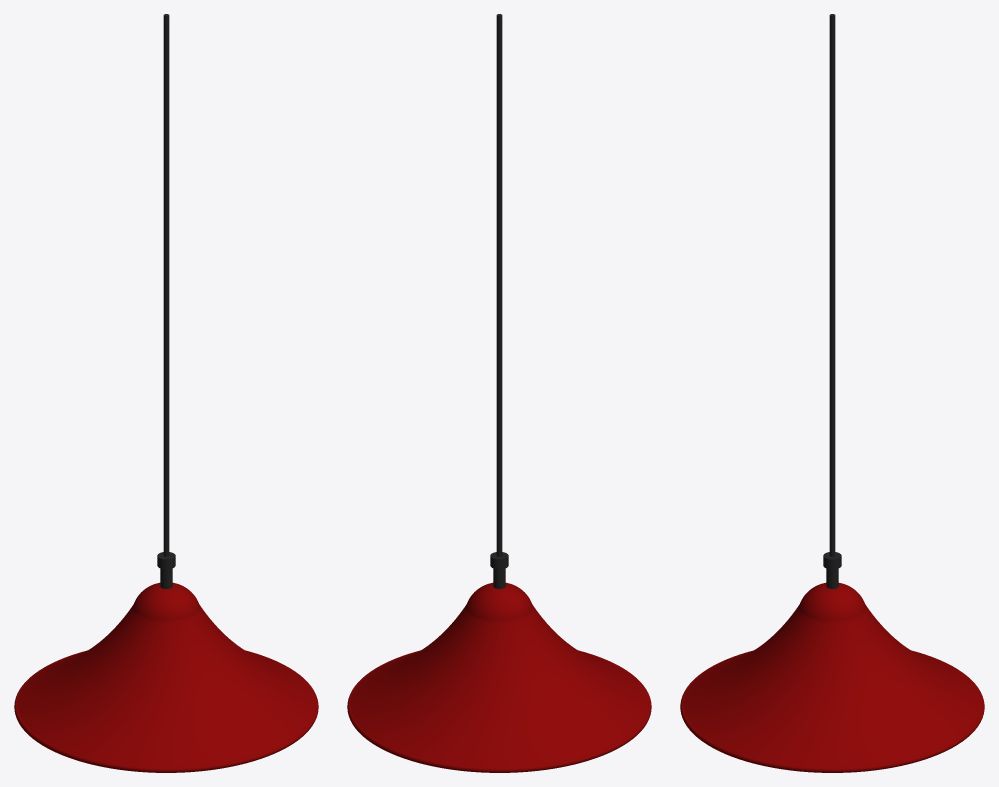
File: lamp.fbx
The picture shows the model from 3 angles, left to right: view 1: azimuth 30°, elevation 25°; view 2: azimuth 150°, elevation 25°; view 3: azimuth 270°, elevation 25°; orthographic projection.
Visible parts, largest first — view 1: Group_002, Group_001; view 2: Group_002, Group_001; view 3: Group_002, Group_001.
Part boxes in pixels (left/top/right/bottom): Group_002: left=14, top=582, right=318, bottom=772; Group_001: left=157, top=14, right=175, bottom=588; Group_002: left=347, top=582, right=651, bottom=772; Group_001: left=490, top=14, right=508, bottom=588; Group_002: left=680, top=583, right=984, bottom=772; Group_001: left=823, top=14, right=841, bottom=588.
Bounding box in the file's own units: 20.08 × 52.01 × 20.08.
